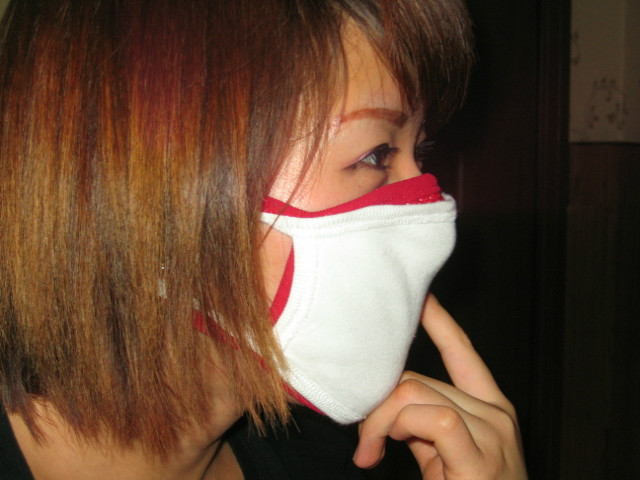face_mask: (217, 27, 456, 430)
